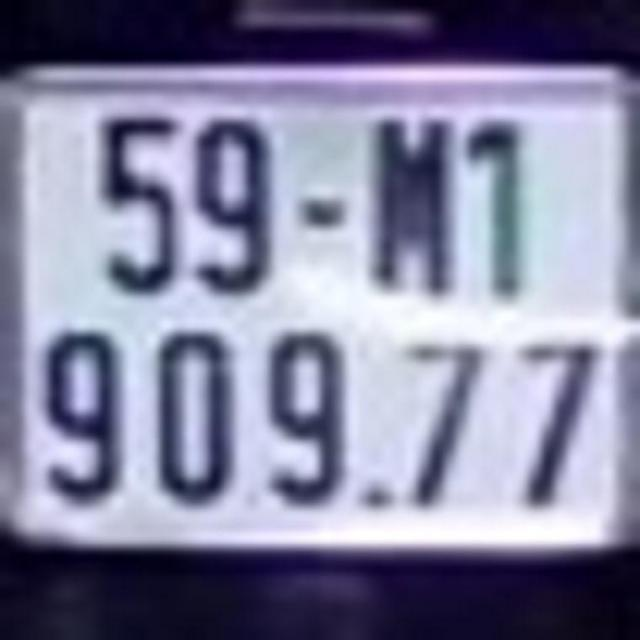0: (152, 323, 238, 511)
1: (462, 103, 529, 304)
5: (96, 100, 180, 295)
7: (400, 320, 487, 511), (517, 326, 597, 508)
9: (188, 106, 273, 300), (264, 320, 348, 514), (44, 312, 122, 511)
M: (366, 106, 453, 303)
